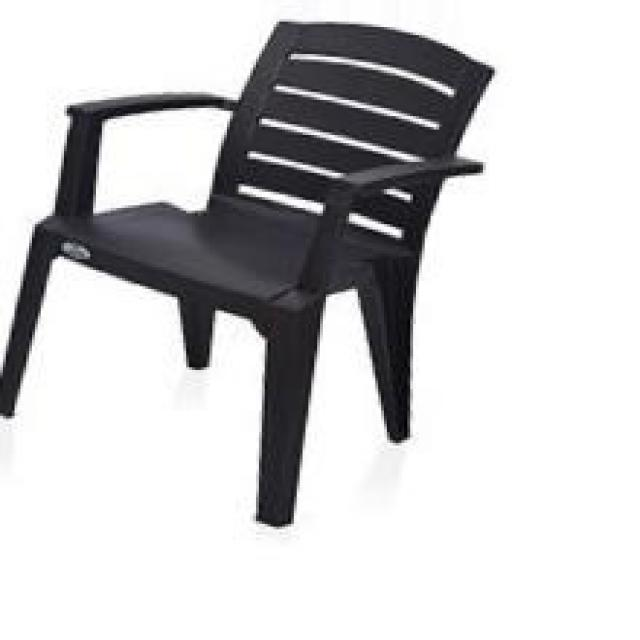Chair: (3, 13, 497, 532)
